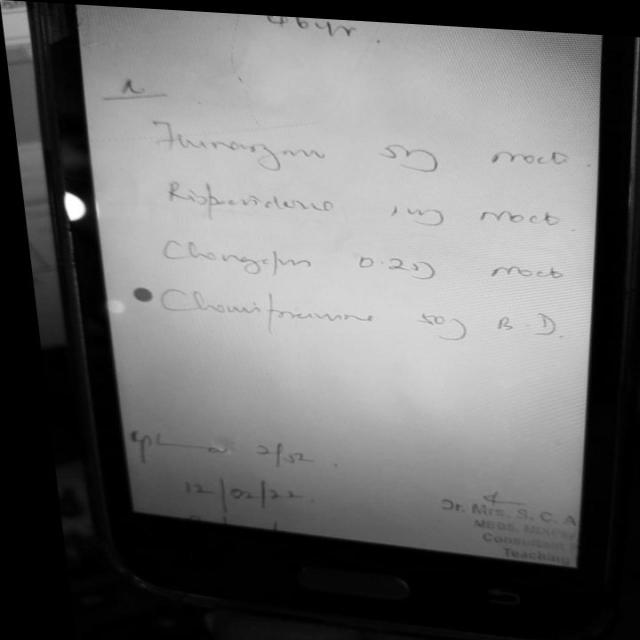Prescription: (144, 116, 572, 176), (148, 228, 558, 282), (149, 283, 556, 337), (154, 177, 562, 229)
